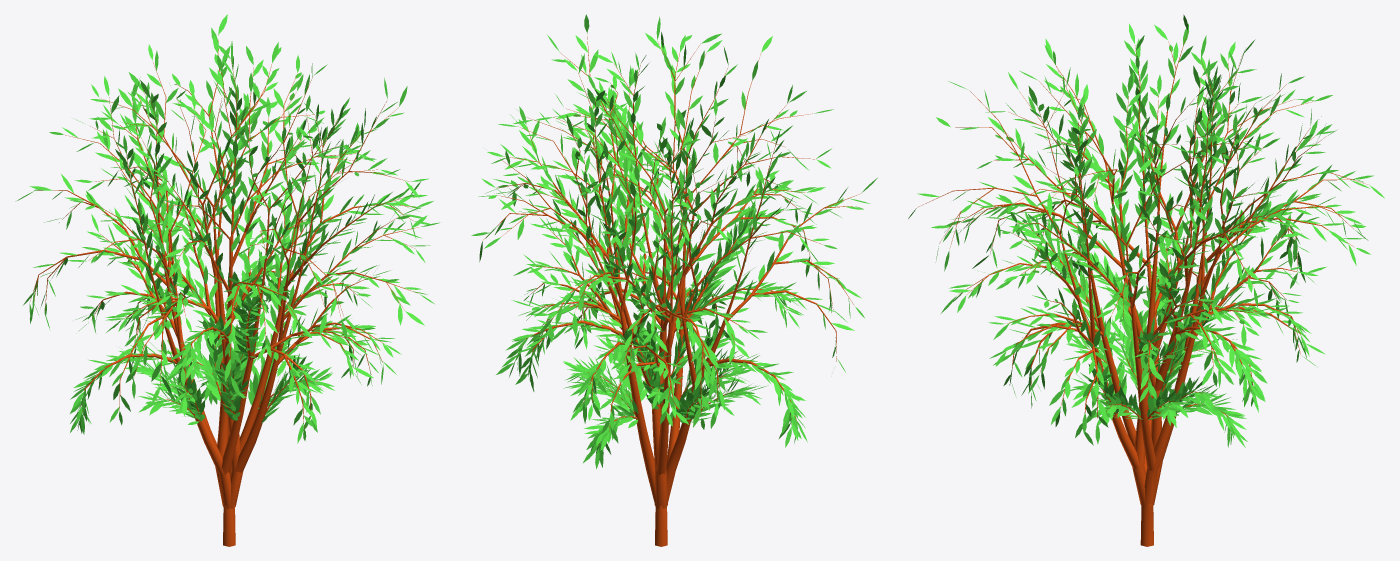
The model's file is tree test merged 2.fbx.
3 renders of one model, left to right at view 1: azimuth 30°, elevation 25°; view 2: azimuth 150°, elevation 25°; view 3: azimuth 270°, elevation 25°, orthographic. The views are drawn at different scales.
Parts seen in each view (by area): view 1: leaves; view 2: leaves; view 3: leaves.
Part boxes in pixels (box(x1,y1,x2,y2)): leaves: box(15, 14, 439, 546); leaves: box(471, 14, 877, 546); leaves: box(908, 14, 1384, 546).
Bounding box in the file's own units: 680 × 850 × 746.
